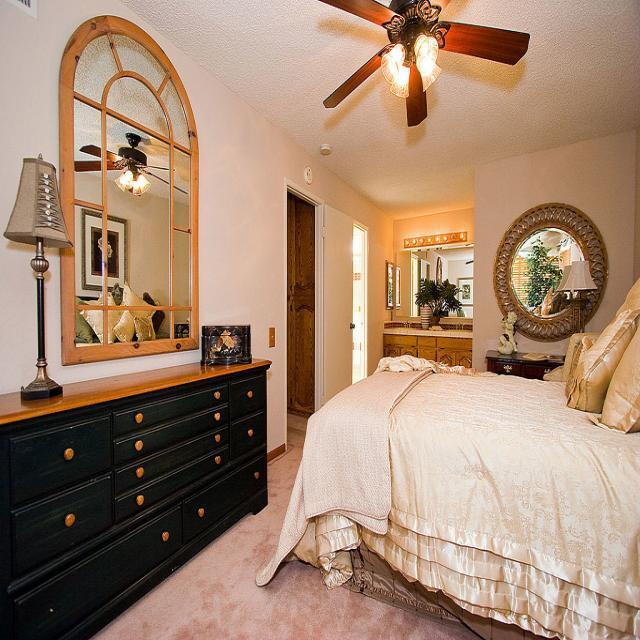bulb_on: (382, 49, 405, 76), (418, 41, 435, 61), (395, 72, 411, 90), (418, 56, 433, 74), (136, 178, 152, 191), (125, 175, 131, 185)
fan_off: (313, 0, 535, 129), (69, 129, 186, 193)
